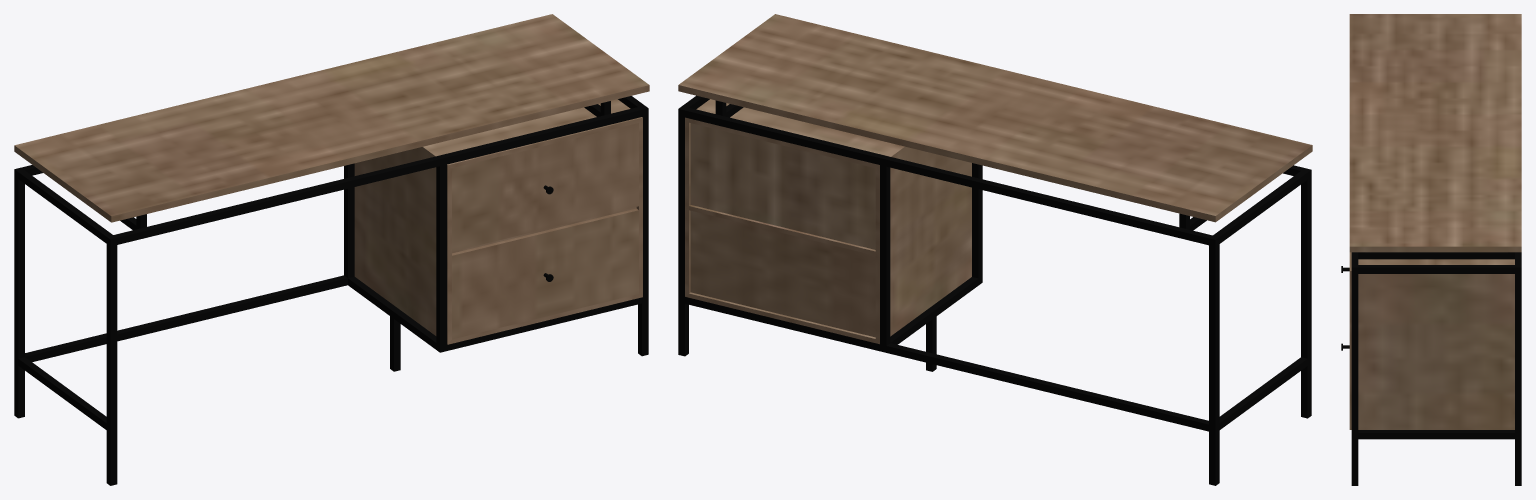
File: Working Desk.fbx
3 views of the same model, side by side, from view 1: azimuth 30°, elevation 25°; view 2: azimuth 150°, elevation 25°; view 3: azimuth 270°, elevation 25° (orthographic). The views are drawn at different scales.
Visible parts, largest first — view 1: Working desk; view 2: Working desk; view 3: Working desk.
Part boxes in pixels (x1=…): Working desk: x1=14, y1=14, x2=649, y2=485; Working desk: x1=678, y1=14, x2=1312, y2=485; Working desk: x1=1341, y1=14, x2=1521, y2=485.
Size of the model in its own units: 160 by 76.8 by 52.5.
2 materials, 2 textured.
